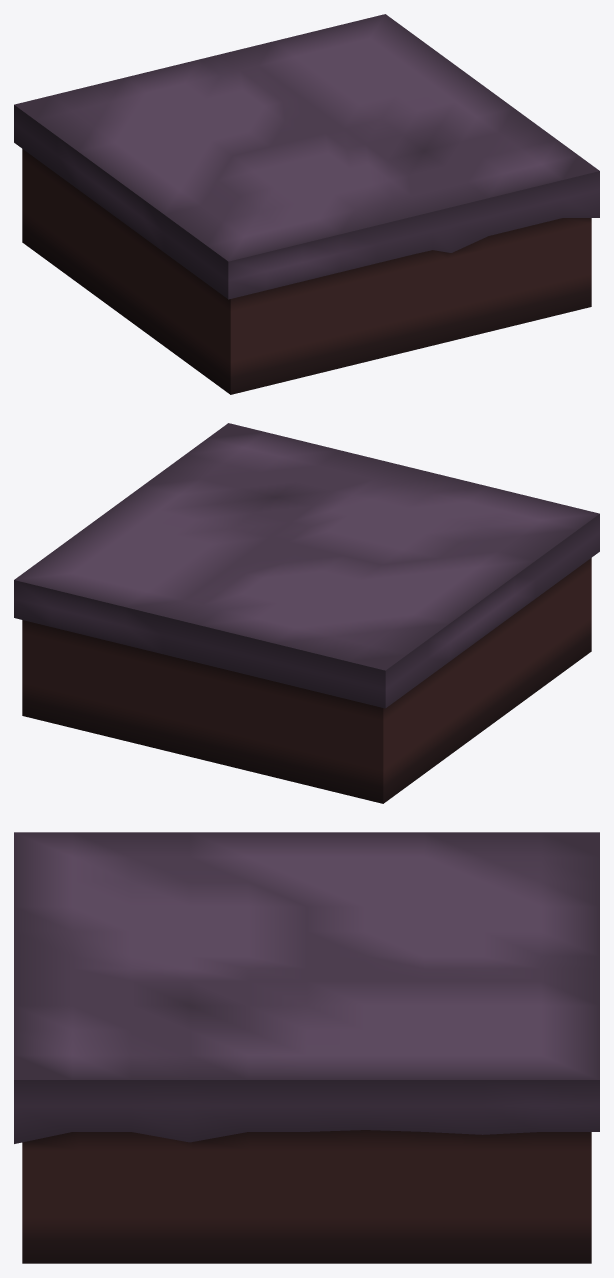
The model's file is ground04.fbx.
3 renders of one model, top to bottom at view 1: azimuth 30°, elevation 25°; view 2: azimuth 150°, elevation 25°; view 3: azimuth 270°, elevation 25°, orthographic. The views are drawn at different scales.
Visible parts, largest first — view 1: Cube; view 2: Cube; view 3: Cube.
Boxes of the visible parts, left/top/right/bottom form: Cube: left=14, top=14, right=599, bottom=394; Cube: left=14, top=423, right=599, bottom=803; Cube: left=14, top=832, right=599, bottom=1263.
Bounding box in the file's own units: 2.06 × 0.7239 × 2.06.
